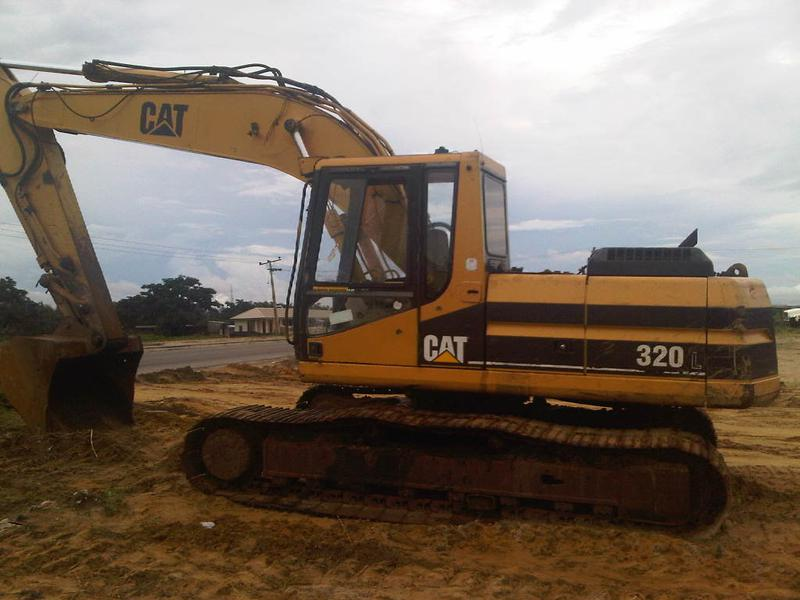shovel: (3, 50, 778, 536)
